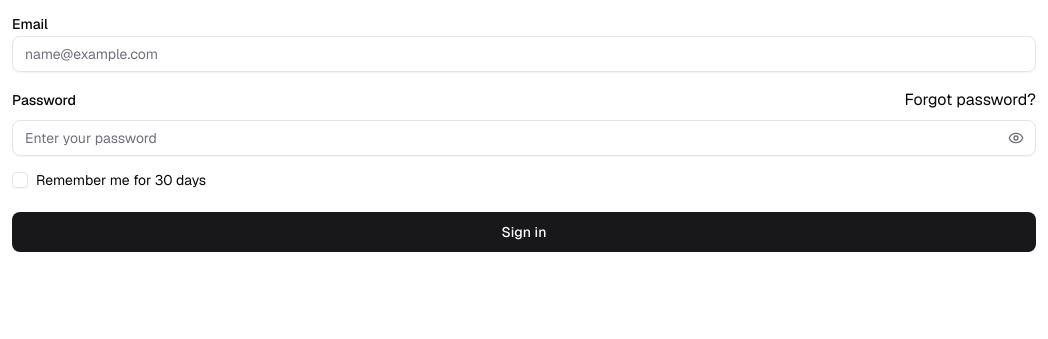
LoginFormModern › Accessibility › should display error alert with proper role
Type "test@example.com" into the field labelled "Email".
click(524, 54); type("test@example.com")  # box left=12, top=36, right=1036, bottom=72
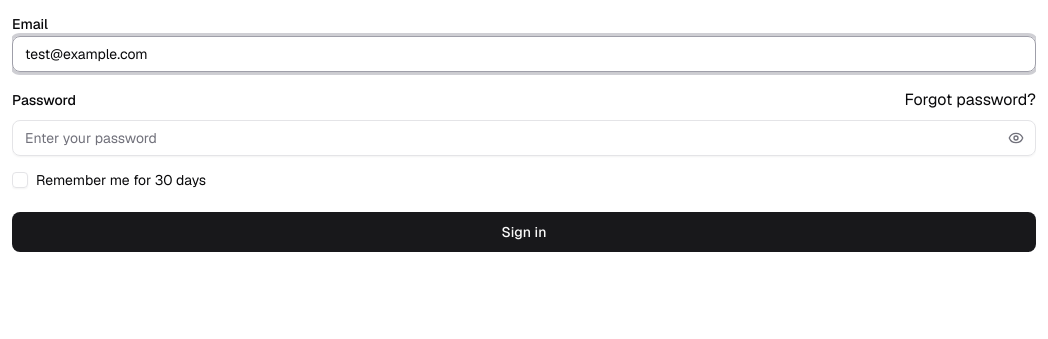
Type "password123" into the password field labelled "Password".
click(524, 138); type("password123")  # box left=12, top=120, right=1036, bottom=156
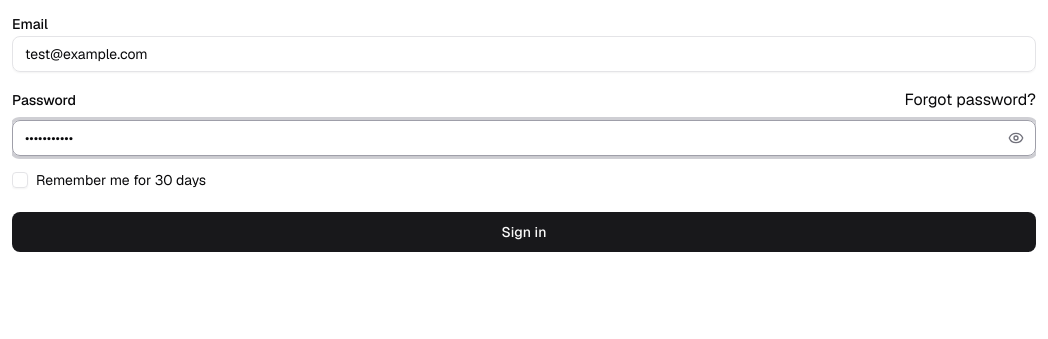
Click the button "Sign in".
click(524, 232)  # box left=12, top=212, right=1036, bottom=252
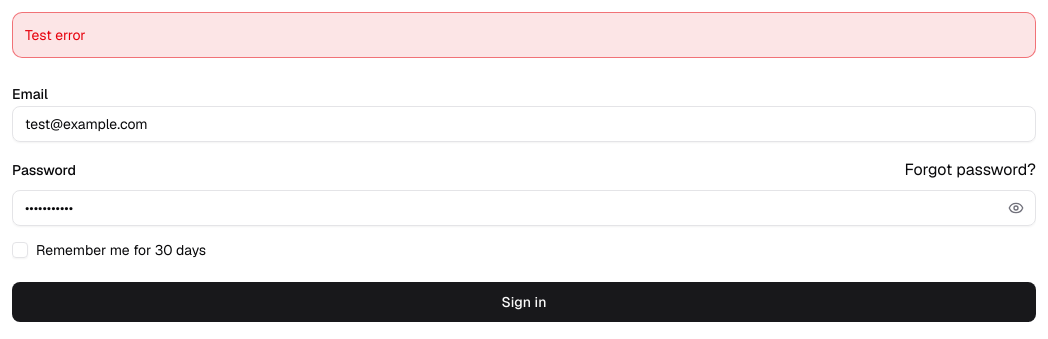
Now the message "Test error" is shown, box left=12, top=12, right=1036, bottom=58
